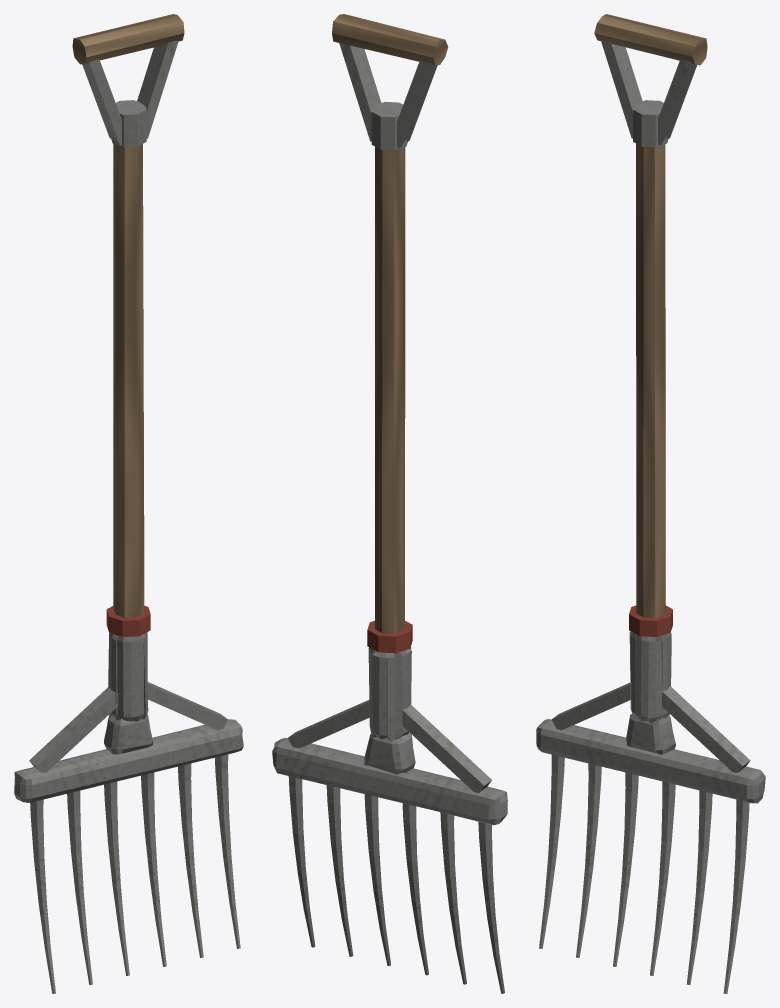
The model's file is steel_fork.glb.
The picture shows the model from 3 angles, left to right: view 1: azimuth 30°, elevation 25°; view 2: azimuth 150°, elevation 25°; view 3: azimuth 330°, elevation 25°; orthographic projection. The views are drawn at different scales.
Parts seen in each view (by area): view 1: SteelFork; view 2: SteelFork; view 3: SteelFork.
Part boxes in pixels (bbox=[...]): SteelFork: bbox=[14, 14, 243, 993]; SteelFork: bbox=[272, 14, 507, 993]; SteelFork: bbox=[536, 14, 765, 993].
Size of the model in its own units: 0.3619 by 1.45 by 0.0845.
Materials: 3 (3 with a texture image).
